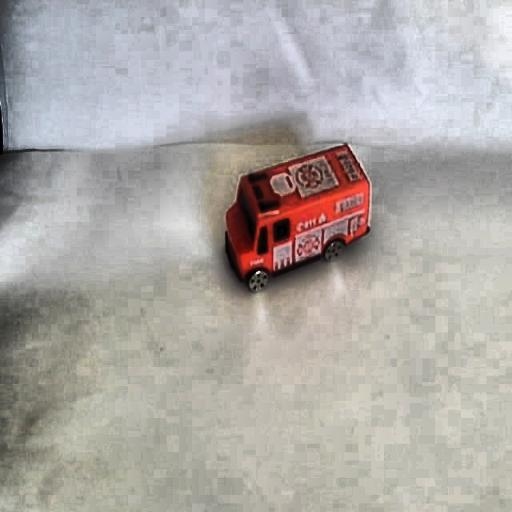fire_truck: (219, 142, 372, 294)
